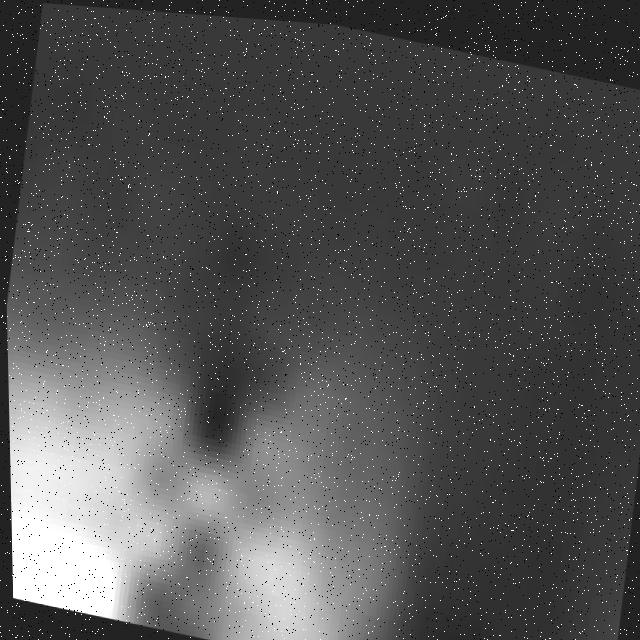person: (186, 317, 445, 640), (6, 270, 203, 630)
